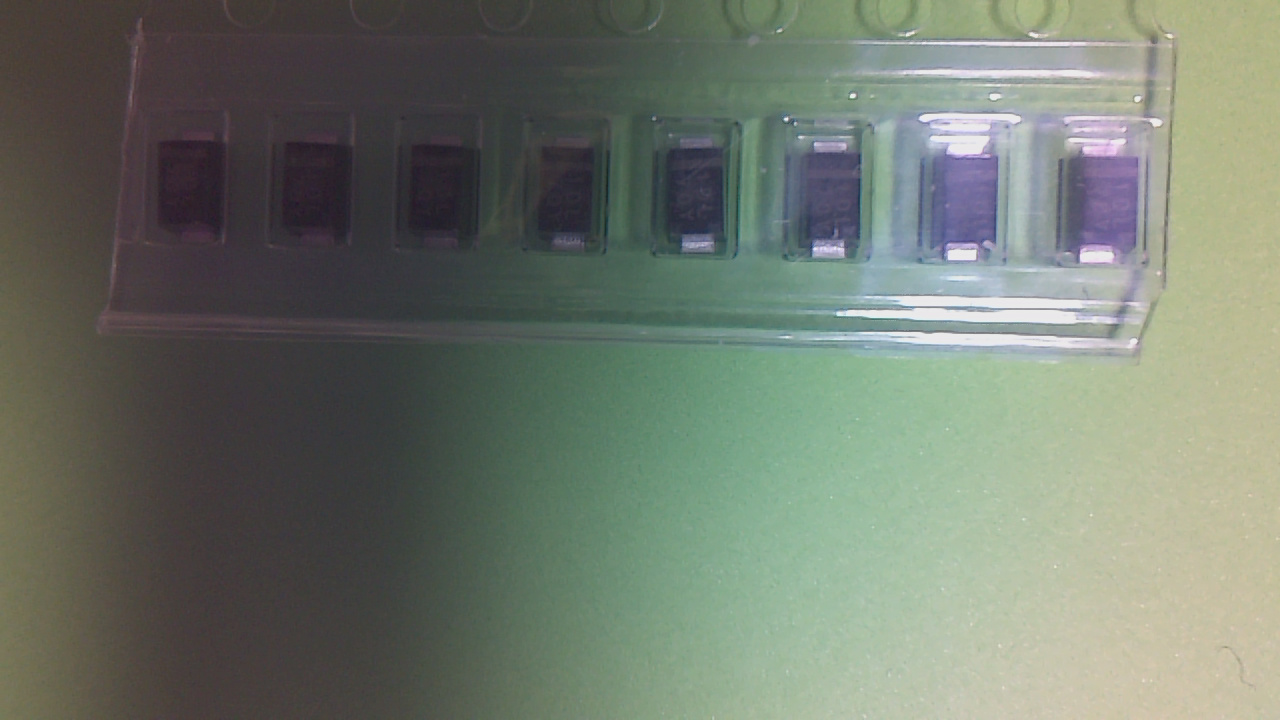Diode: (1066, 141, 1139, 271), (801, 143, 869, 267), (416, 136, 485, 256), (933, 150, 1001, 271), (286, 135, 354, 253), (545, 135, 609, 254), (668, 138, 731, 258), (162, 134, 229, 246)
